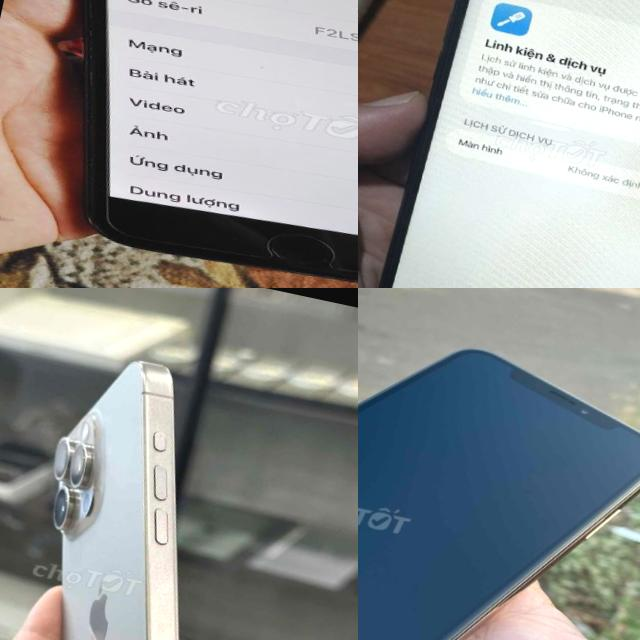gen_11: (380, 0, 640, 288)
gen_15: (0, 327, 308, 640)
gen_7_8: (81, 0, 358, 281)
gen_x_xs: (358, 350, 640, 640), (461, 401, 464, 406)
